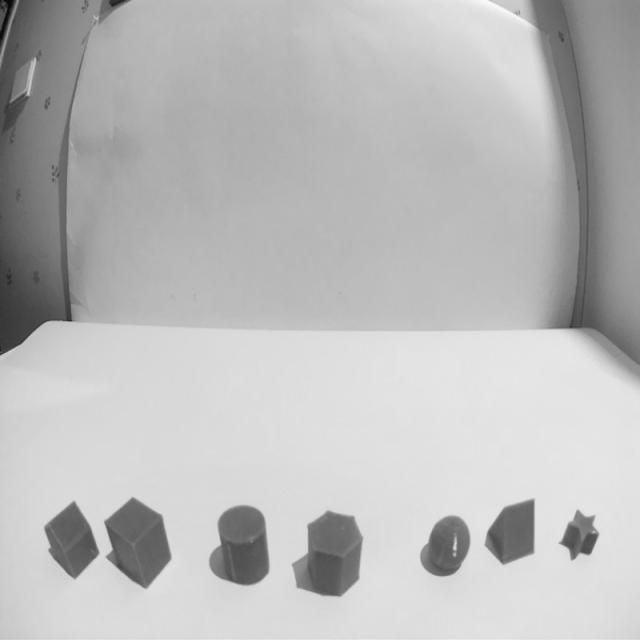ball: (428, 514, 470, 574)
cube: (102, 495, 175, 589)
cylinder: (217, 504, 270, 586)
hexagon: (306, 510, 364, 597)
home: (44, 500, 102, 580)
star: (559, 508, 600, 559)
triangle: (485, 498, 536, 564)
